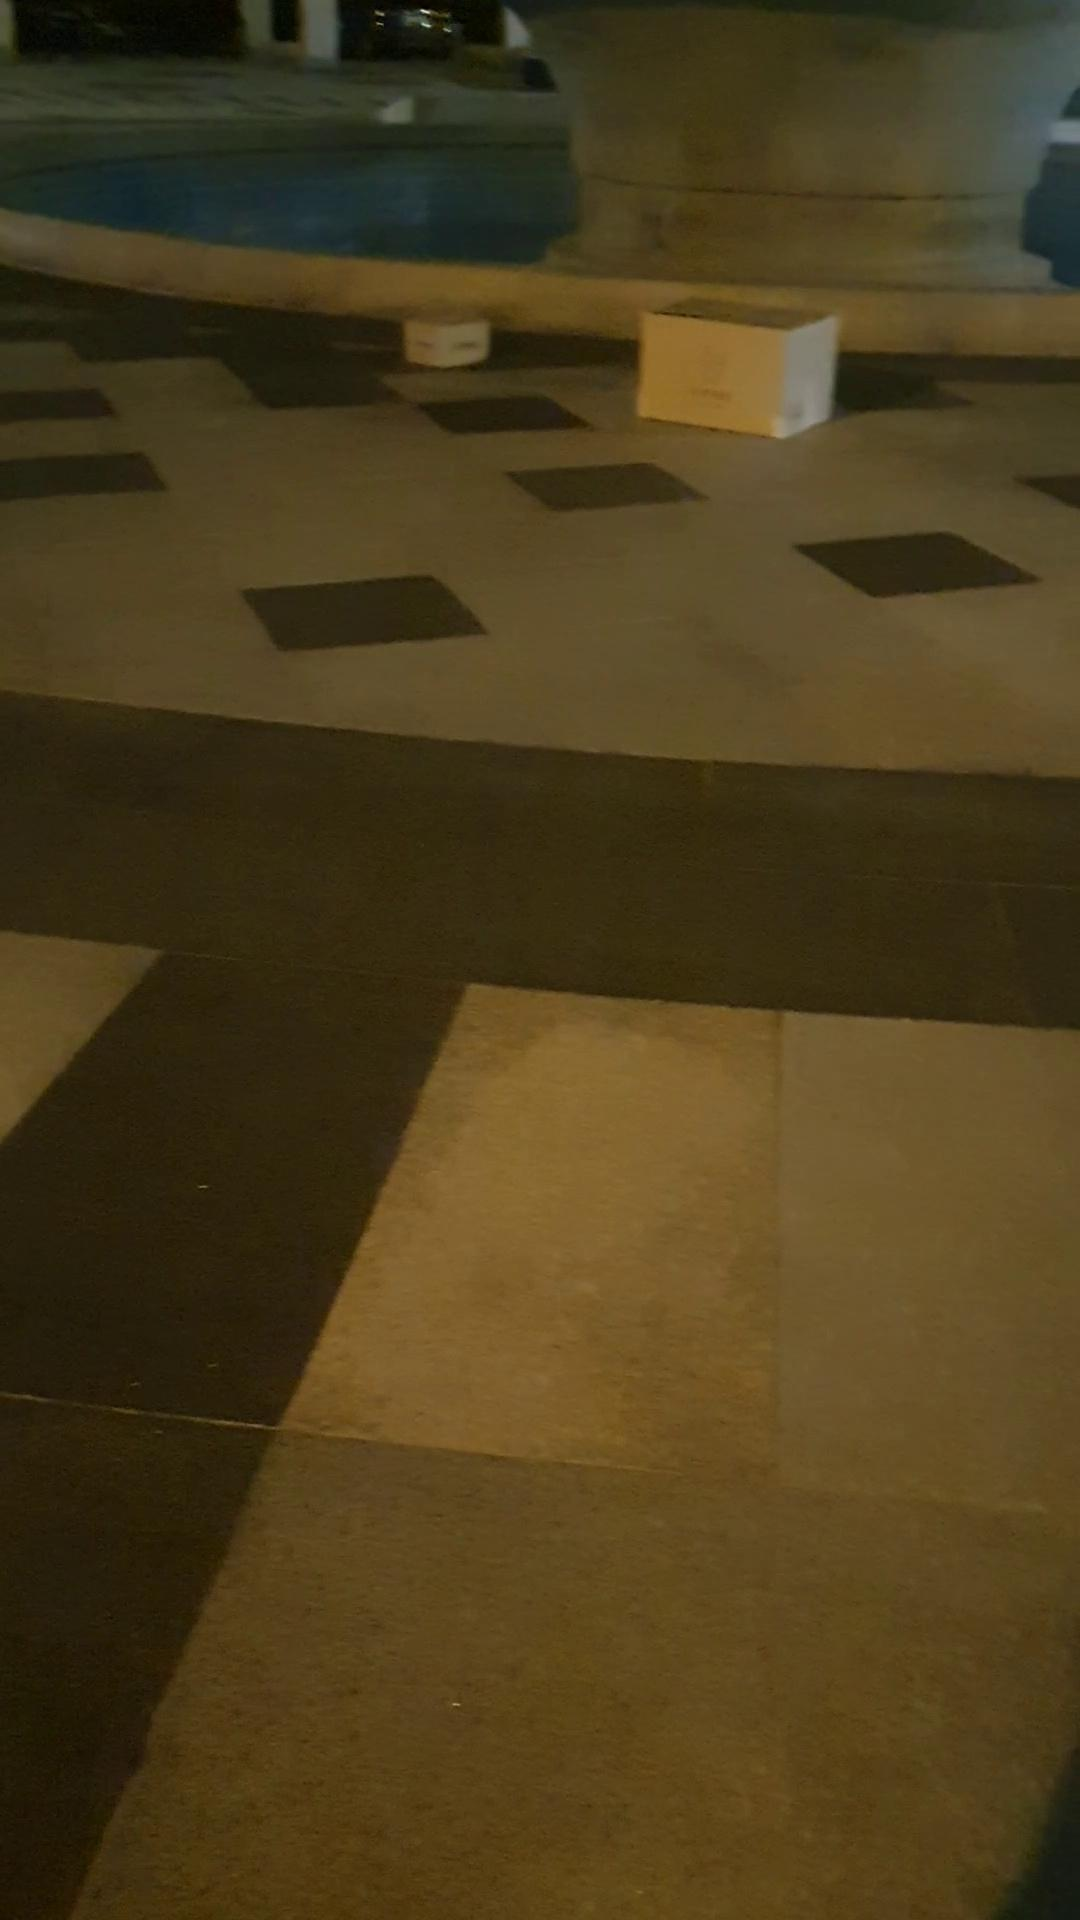Box: (636, 290, 851, 455), (386, 298, 498, 371)
